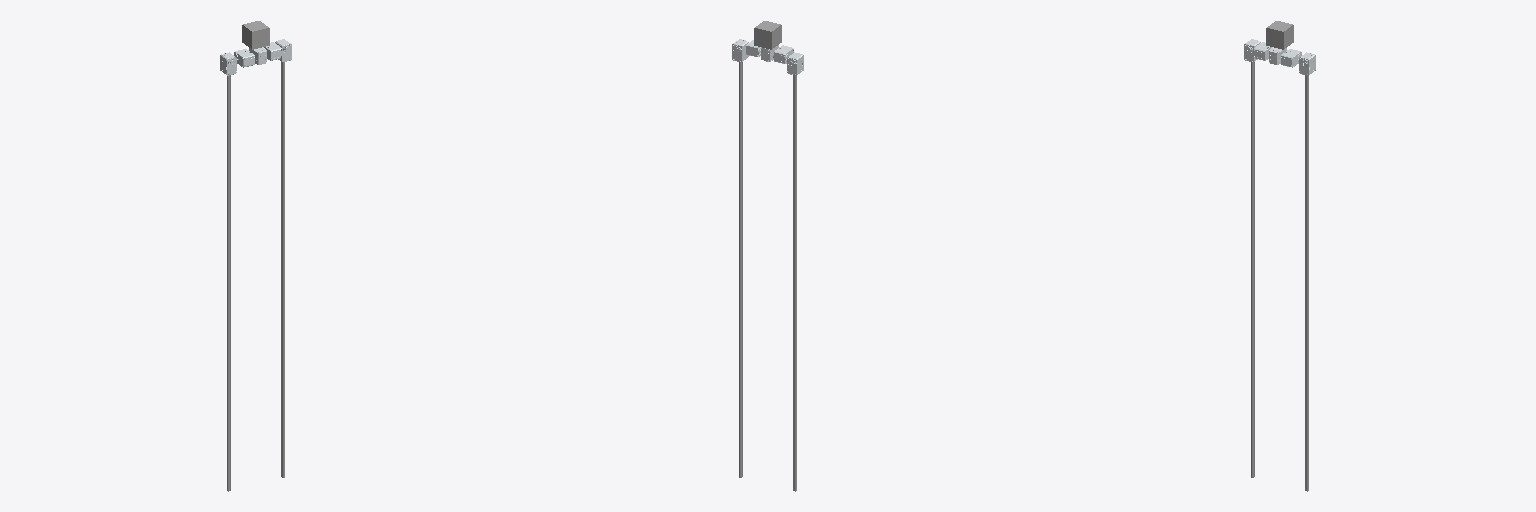
URDF robot description (chopstick_bot):
<?xml version='1.0' encoding='utf-8'?>
<robot name="chopstick_bot">
  <link name="world" />
  <joint name="world_to_base" type="fixed">
    <origin xyz="0.000000 0.000000 1.270000" rpy="0.000000 0.000000 0.000000" />
    <parent link="world" />
    <child link="base_motor_link" />
    </joint>
  <link name="base_motor_link">
    <visual>
      <origin xyz="0.000000 0.000000 0.000000" rpy="0.000000 0.000000 0.000000" />
      <geometry>
        <mesh filename="meshes/XL-430_new_coordinate_on_axis.STL" scale="0.001000 0.001000 0.001000" />
        </geometry>
      <material name="motor_mat">
        <color rgba="0.89804 0.91765 0.92941 1.0" />
        </material>
      </visual>
    <collision>
      <origin xyz="0.000000 -0.012000 0.000000" rpy="0.000000 0.000000 0.000000" />
      <geometry>
        <box size="0.028500 0.046500 0.034000" />
        </geometry>
      </collision>
    <inertial>
      <origin xyz="0.000000 -0.012000 0.000000" rpy="0.000000 0.000000 0.000000" />
      <mass value="0.065000" />
      <inertia ixx="0.000017973854" ixy="0" ixz="0" iyy="0.000010661354" iyz="0" izz="0.000016111875" />
      </inertial>
    </link>
  <link name="l_hip_pitch">
    <visual>
      <origin xyz="0.000000 0.000000 0.000000" rpy="0.000000 0.000000 0.000000" />
      <geometry>
        <mesh filename="meshes/XL-430_new_coordinate_on_axis.STL" scale="0.001000 0.001000 0.001000" />
        </geometry>
      <material name="motor_mat">
        <color rgba="0.89804 0.91765 0.92941 1.0" />
        </material>
      </visual>
    <collision>
      <origin xyz="0.000000 -0.012000 0.000000" rpy="0.000000 0.000000 0.000000" />
      <geometry>
        <box size="0.028500 0.046500 0.034000" />
        </geometry>
      </collision>
    <inertial>
      <origin xyz="0.000000 -0.012000 0.000000" rpy="0.000000 0.000000 0.000000" />
      <mass value="0.065000" />
      <inertia ixx="0.000017973854" ixy="0" ixz="0" iyy="0.000010661354" iyz="0" izz="0.000016111875" />
      </inertial>
    </link>
  <link name="l_hip_pitch_out">
    <inertial>
      <origin xyz="0.000000 0.000000 0.000000" rpy="0.000000 0.000000 0.000000" />
      <mass value="0.001000" />
      <inertia ixx="0.000000016667" ixy="0" ixz="0" iyy="0.000000016667" iyz="0" izz="0.000000016667" />
      </inertial>
    </link>
  <joint name="l_hip_pitch_mount_fixed" type="fixed">
    <origin xyz="-0.040000 0.000000 0.000000" rpy="0.000000 -1.570796 0.000000" />
    <parent link="base_motor_link" />
    <child link="l_hip_pitch" />
    </joint>
  <joint name="l_hip_pitch_joint" type="revolute">
    <origin xyz="0.000000 0.000000 0.000000" rpy="0.000000 0.000000 0.000000" />
    <parent link="l_hip_pitch" />
    <child link="l_hip_pitch_out" />
    <axis xyz="0.000000 0.000000 1.000000" />
    <limit lower="-3.14159" upper="3.14159" effort="5.0" velocity="8.0" />
    </joint>
  <link name="l_hip_roll">
    <visual>
      <origin xyz="0.000000 0.000000 0.000000" rpy="0.000000 0.000000 0.000000" />
      <geometry>
        <mesh filename="meshes/XL-430_new_coordinate_on_axis.STL" scale="0.001000 0.001000 0.001000" />
        </geometry>
      <material name="motor_mat">
        <color rgba="0.89804 0.91765 0.92941 1.0" />
        </material>
      </visual>
    <collision>
      <origin xyz="0.000000 -0.012000 0.000000" rpy="0.000000 0.000000 0.000000" />
      <geometry>
        <box size="0.028500 0.046500 0.034000" />
        </geometry>
      </collision>
    <inertial>
      <origin xyz="0.000000 -0.012000 0.000000" rpy="0.000000 0.000000 0.000000" />
      <mass value="0.065000" />
      <inertia ixx="0.000017973854" ixy="0" ixz="0" iyy="0.000010661354" iyz="0" izz="0.000016111875" />
      </inertial>
    </link>
  <link name="l_hip_roll_out">
    <inertial>
      <origin xyz="0.000000 0.000000 0.000000" rpy="0.000000 0.000000 0.000000" />
      <mass value="0.001000" />
      <inertia ixx="0.000000016667" ixy="0" ixz="0" iyy="0.000000016667" iyz="0" izz="0.000000016667" />
      </inertial>
    </link>
  <joint name="l_hip_roll_mount_fixed" type="fixed">
    <origin xyz="0.000000 0.000000 0.040000" rpy="0.000000 -1.570796 -1.570796" />
    <parent link="l_hip_pitch_out" />
    <child link="l_hip_roll" />
    </joint>
  <joint name="l_hip_roll_joint" type="revolute">
    <origin xyz="0.000000 0.000000 0.000000" rpy="0.000000 0.000000 0.000000" />
    <parent link="l_hip_roll" />
    <child link="l_hip_roll_out" />
    <axis xyz="0.000000 0.000000 1.000000" />
    <limit lower="-3.14159" upper="3.14159" effort="5.0" velocity="8.0" />
    </joint>
  <link name="l_end_effector">
    <visual>
      <origin xyz="0.000000 0.000000 0.000000" rpy="1.570796 0.000000 0.000000" />
      <geometry>
        <cylinder radius="0.005000" length="1.200000" />
        </geometry>
      <material name="cylinder_mat">
        <color rgba="0.7 0.7 0.7 1.0" />
        </material>
      </visual>
    <collision>
      <origin xyz="0.000000 -0.600000 0.000000" rpy="0.000000 0.000000 0.000000" />
      <geometry>
        <box size="0.020000 0.020000 0.020000" />
        </geometry>
      </collision>
    <inertial>
      <origin xyz="0.000000 0.000000 0.000000" rpy="0.000000 0.000000 0.000000" />
      <mass value="0.047124" />
      <inertia ixx="0.005655161301" ixy="0" ixz="0" iyy="0.005655161301" iyz="0" izz="0.000000589049" />
      </inertial>
    </link>
  <joint name="l_end_effector_fixed" type="fixed">
    <origin xyz="0.000000 -0.600000 0.000000" rpy="0.000000 0.000000 0.000000" />
    <parent link="l_hip_roll_out" />
    <child link="l_end_effector" />
    </joint>
  <link name="r_hip_pitch">
    <visual>
      <origin xyz="0.000000 0.000000 0.000000" rpy="0.000000 0.000000 0.000000" />
      <geometry>
        <mesh filename="meshes/XL-430_new_coordinate_on_axis.STL" scale="0.001000 0.001000 0.001000" />
        </geometry>
      <material name="motor_mat">
        <color rgba="0.89804 0.91765 0.92941 1.0" />
        </material>
      </visual>
    <collision>
      <origin xyz="0.000000 -0.012000 0.000000" rpy="0.000000 0.000000 0.000000" />
      <geometry>
        <box size="0.028500 0.046500 0.034000" />
        </geometry>
      </collision>
    <inertial>
      <origin xyz="0.000000 -0.012000 0.000000" rpy="0.000000 0.000000 0.000000" />
      <mass value="0.065000" />
      <inertia ixx="0.000017973854" ixy="0" ixz="0" iyy="0.000010661354" iyz="0" izz="0.000016111875" />
      </inertial>
    </link>
  <link name="r_hip_pitch_out">
    <inertial>
      <origin xyz="0.000000 0.000000 0.000000" rpy="0.000000 0.000000 0.000000" />
      <mass value="0.001000" />
      <inertia ixx="0.000000016667" ixy="0" ixz="0" iyy="0.000000016667" iyz="0" izz="0.000000016667" />
      </inertial>
    </link>
  <joint name="r_hip_pitch_mount_fixed" type="fixed">
    <origin xyz="0.040000 0.000000 0.000000" rpy="0.000000 1.570796 -0.000000" />
    <parent link="base_motor_link" />
    <child link="r_hip_pitch" />
    </joint>
  <joint name="r_hip_pitch_joint" type="revolute">
    <origin xyz="0.000000 0.000000 0.000000" rpy="0.000000 0.000000 0.000000" />
    <parent link="r_hip_pitch" />
    <child link="r_hip_pitch_out" />
    <axis xyz="0.000000 0.000000 1.000000" />
    <limit lower="-3.14159" upper="3.14159" effort="5.0" velocity="8.0" />
    </joint>
  <link name="r_hip_roll">
    <visual>
      <origin xyz="0.000000 0.000000 0.000000" rpy="0.000000 0.000000 0.000000" />
      <geometry>
        <mesh filename="meshes/XL-430_new_coordinate_on_axis.STL" scale="0.001000 0.001000 0.001000" />
        </geometry>
      <material name="motor_mat">
        <color rgba="0.89804 0.91765 0.92941 1.0" />
        </material>
      </visual>
    <collision>
      <origin xyz="0.000000 -0.012000 0.000000" rpy="0.000000 0.000000 0.000000" />
      <geometry>
        <box size="0.028500 0.046500 0.034000" />
        </geometry>
      </collision>
    <inertial>
      <origin xyz="0.000000 -0.012000 0.000000" rpy="0.000000 0.000000 0.000000" />
      <mass value="0.065000" />
      <inertia ixx="0.000017973854" ixy="0" ixz="0" iyy="0.000010661354" iyz="0" izz="0.000016111875" />
      </inertial>
    </link>
  <link name="r_hip_roll_out">
    <inertial>
      <origin xyz="0.000000 0.000000 0.000000" rpy="0.000000 0.000000 0.000000" />
      <mass value="0.001000" />
      <inertia ixx="0.000000016667" ixy="0" ixz="0" iyy="0.000000016667" iyz="0" izz="0.000000016667" />
      </inertial>
    </link>
  <joint name="r_hip_roll_mount_fixed" type="fixed">
    <origin xyz="-0.000000 0.000000 0.040000" rpy="0.000000 1.570796 1.570796" />
    <parent link="r_hip_pitch_out" />
    <child link="r_hip_roll" />
    </joint>
  <joint name="r_hip_roll_joint" type="revolute">
    <origin xyz="0.000000 0.000000 0.000000" rpy="0.000000 0.000000 0.000000" />
    <parent link="r_hip_roll" />
    <child link="r_hip_roll_out" />
    <axis xyz="0.000000 0.000000 1.000000" />
    <limit lower="-3.14159" upper="3.14159" effort="5.0" velocity="8.0" />
    </joint>
  <link name="r_end_effector">
    <visual>
      <origin xyz="0.000000 0.000000 0.000000" rpy="1.570796 0.000000 0.000000" />
      <geometry>
        <cylinder radius="0.005000" length="1.200000" />
        </geometry>
      <material name="cylinder_mat">
        <color rgba="0.7 0.7 0.7 1.0" />
        </material>
      </visual>
    <collision>
      <origin xyz="0.000000 -0.600000 0.000000" rpy="0.000000 0.000000 0.000000" />
      <geometry>
        <box size="0.020000 0.020000 0.020000" />
        </geometry>
      </collision>
    <inertial>
      <origin xyz="0.000000 0.000000 0.000000" rpy="0.000000 0.000000 0.000000" />
      <mass value="0.047124" />
      <inertia ixx="0.005655161301" ixy="0" ixz="0" iyy="0.005655161301" iyz="0" izz="0.000000589049" />
      </inertial>
    </link>
  <joint name="r_end_effector_fixed" type="fixed">
    <origin xyz="-0.000000 -0.600000 0.000000" rpy="0.000000 -0.000000 0.000000" />
    <parent link="r_hip_roll_out" />
    <child link="r_end_effector" />
    </joint>
  <link name="trunk_link">
    <visual>
      <origin xyz="0.000000 0.000000 0.000000" rpy="0.000000 0.000000 0.000000" />
      <geometry>
        <box size="0.050000 0.050000 0.050000" />
        </geometry>
      <material name="box_mat">
        <color rgba="0.7 0.7 0.7 1.0" />
        </material>
      </visual>
    <collision>
      <origin xyz="0.000000 0.000000 0.000000" rpy="0.000000 0.000000 0.000000" />
      <geometry>
        <box size="0.050000 0.050000 0.050000" />
        </geometry>
      </collision>
    <inertial>
      <origin xyz="0.000000 0.000000 0.000000" rpy="0.000000 0.000000 0.000000" />
      <mass value="0.200000" />
      <inertia ixx="0.000083333333" ixy="0" ixz="0" iyy="0.000083333333" iyz="0" izz="0.000083333333" />
      </inertial>
    </link>
  <joint name="base_to_trunk" type="revolute">
    <origin xyz="0.000000 0.000000 0.050000" rpy="0.000000 0.000000 0.000000" />
    <parent link="base_motor_link" />
    <child link="trunk_link" />
    <axis xyz="0.000000 0.000000 1.000000" />
    <limit lower="-3.14159" upper="3.14159" effort="5.0" velocity="8.0" />
    </joint>
  </robot>

--- Facts derived from the render (not from the file) ---
The picture shows the robot from 3 angles, left to right: view 1: azimuth 30°, elevation 25°; view 2: azimuth 150°, elevation 25°; view 3: azimuth 330°, elevation 25°; orthographic projection.
Robot: chopstick_bot — 13 links, 12 joints (5 revolute, 7 fixed); root link world; default pose: every joint at zero.
Links seen in each view (by area): view 1: l_end_effector, r_end_effector, trunk_link; view 2: l_end_effector, r_end_effector, trunk_link; view 3: l_end_effector, r_end_effector, trunk_link.
Link boxes in pixels (x1=…): l_end_effector: x1=227, y1=75, x2=230, y2=491; r_end_effector: x1=281, y1=62, x2=284, y2=477; trunk_link: x1=242, y1=21, x2=269, y2=49; l_end_effector: x1=793, y1=75, x2=796, y2=491; r_end_effector: x1=739, y1=62, x2=742, y2=477; trunk_link: x1=754, y1=21, x2=781, y2=49; l_end_effector: x1=1251, y1=62, x2=1254, y2=477; r_end_effector: x1=1305, y1=75, x2=1308, y2=491; trunk_link: x1=1266, y1=21, x2=1293, y2=49.
Size in the robot's own frame: 0.1885 by 0.0602 by 1.27 metres.
Meshes: 1 distinct files referenced, 5 mesh visuals loaded (1 binary STL).
